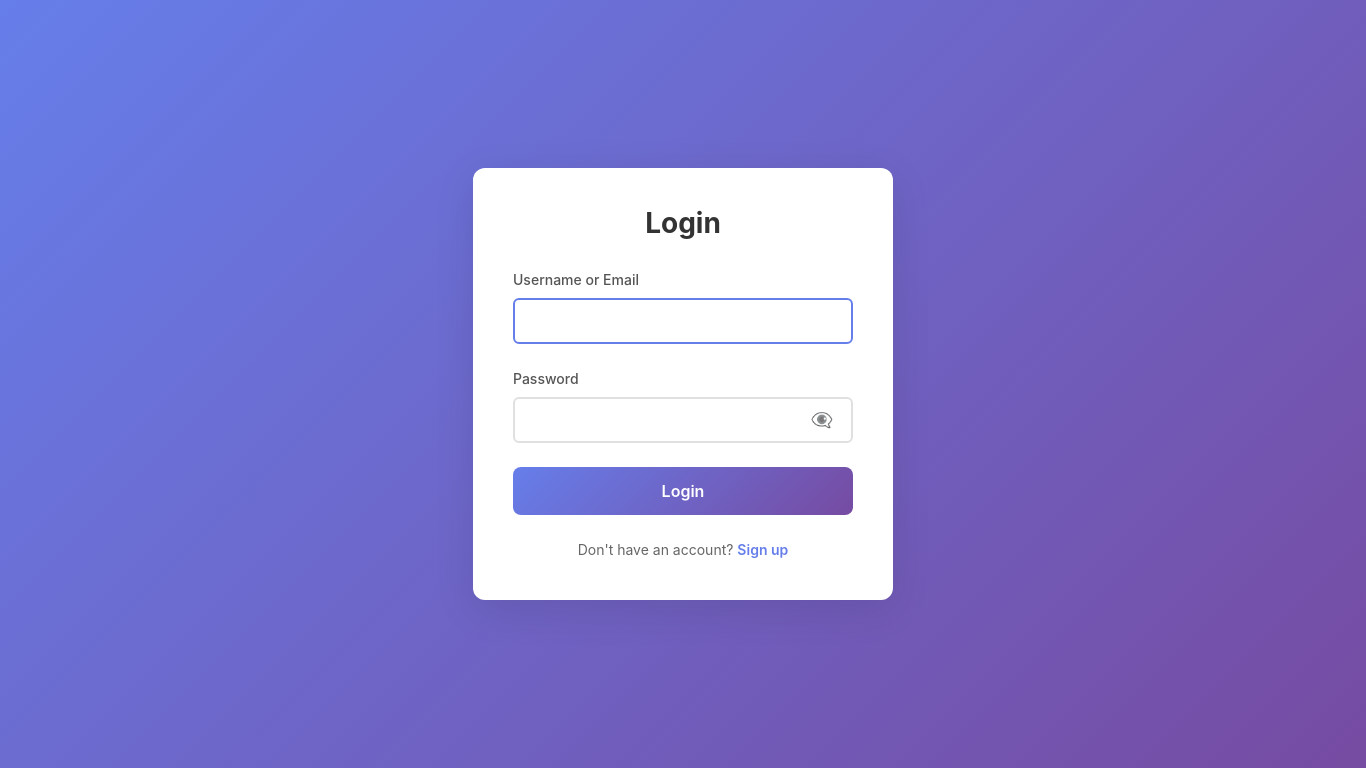
Scenario: Login Component › Form Submission › shows loading state during login
In the field labelled "Username or Email": (683, 321) x1=513 y1=298 x2=853 y2=344, type "testuser"
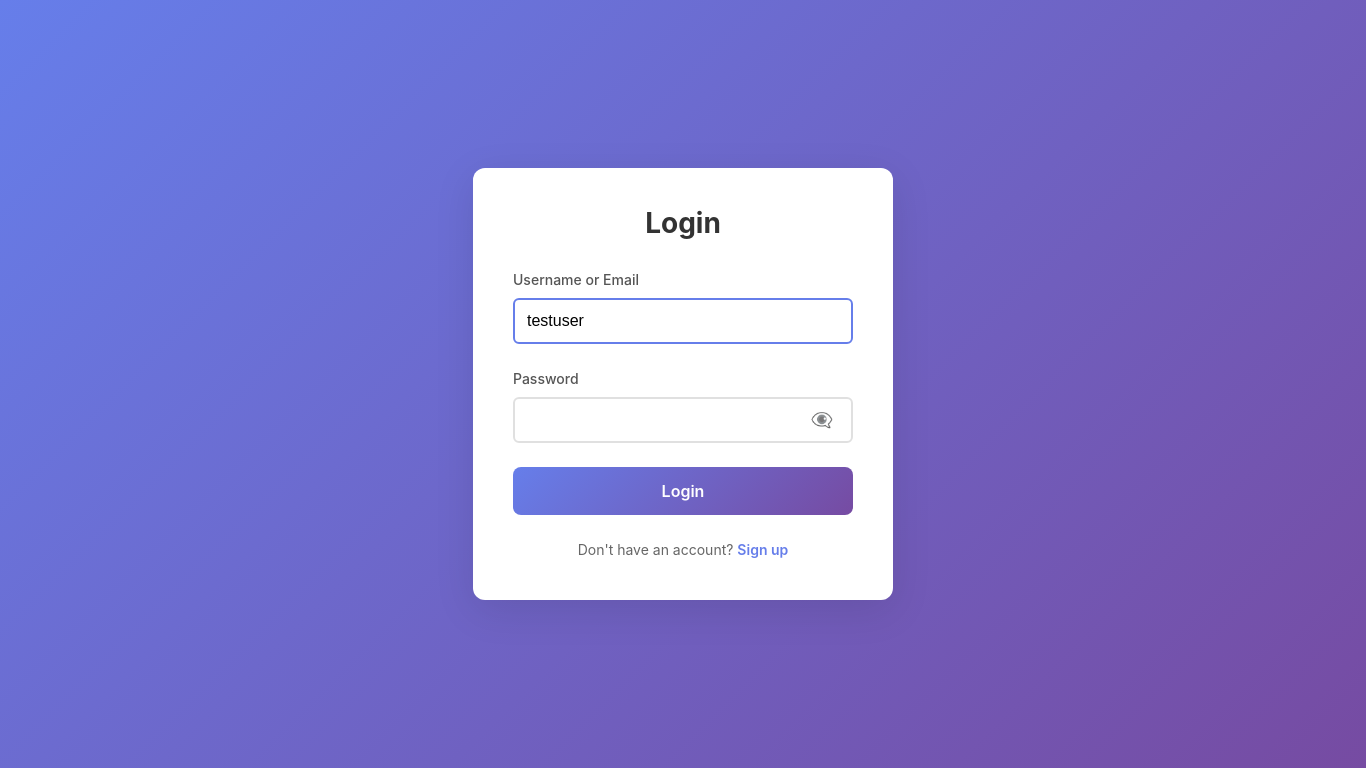
In the password field labelled "Password": (683, 420) x1=513 y1=397 x2=853 y2=443, type "password123"
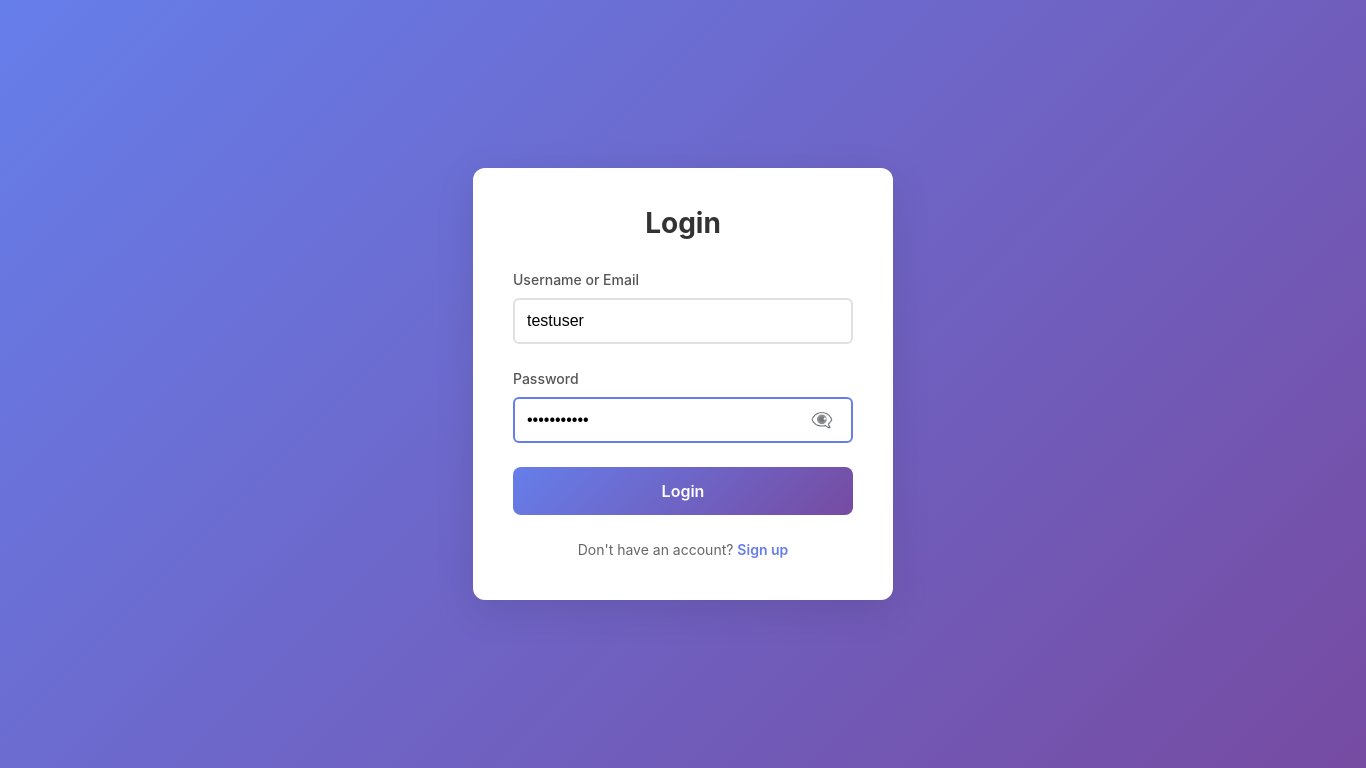
Click the button "Login": (683, 491) x1=513 y1=467 x2=853 y2=515
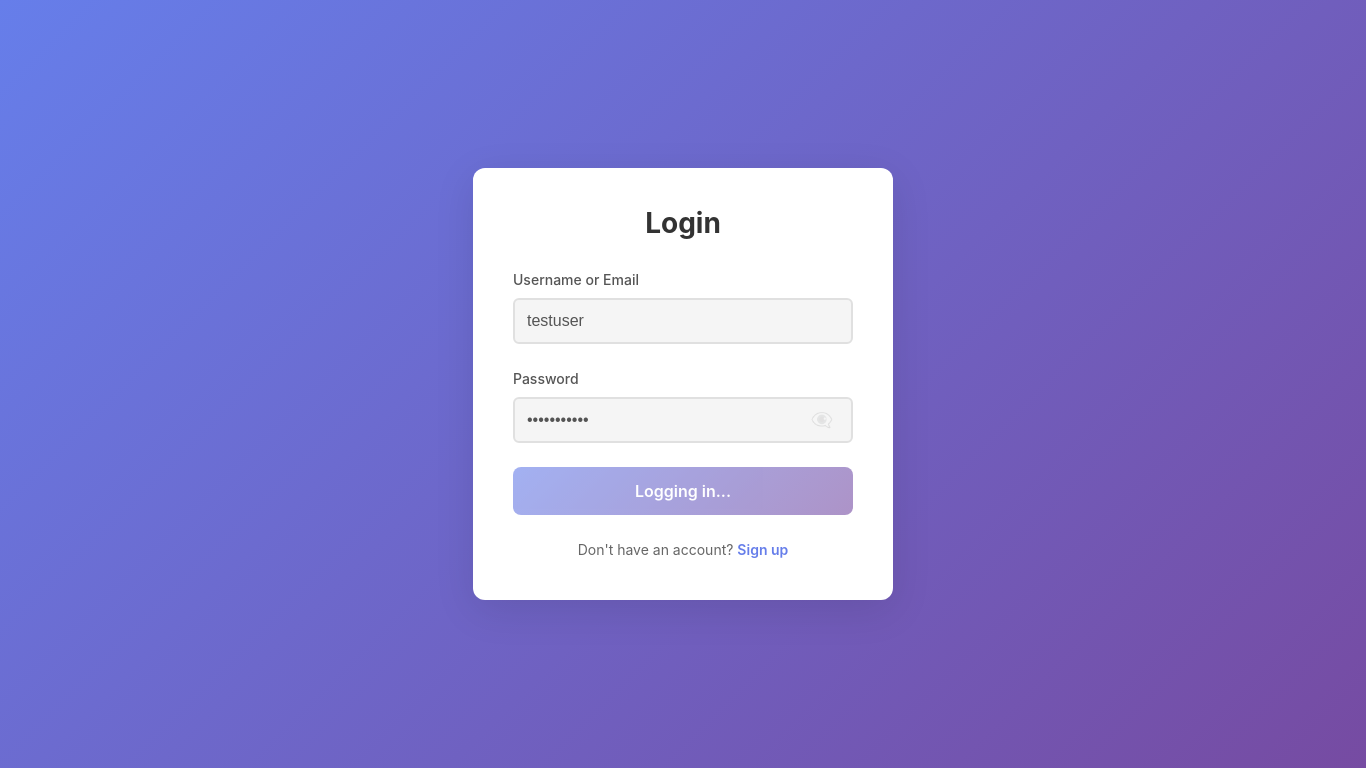
Now the button "Logging in..." is disabled, box x1=513 y1=467 x2=853 y2=515
